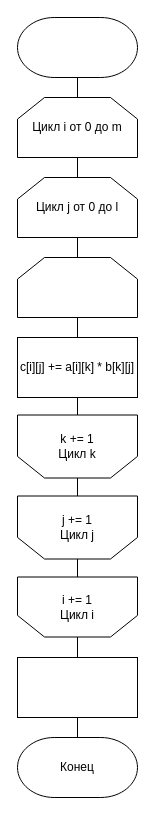
Some shapes in this 155 by 815 pixel diagram are drawn without their labels. The centre of each missing label's shape, as x and y in pixels:
Начало: pixel 77 47
результат = c: pixel 77 687
Цикл k от 0 до n: pixel 77 287
